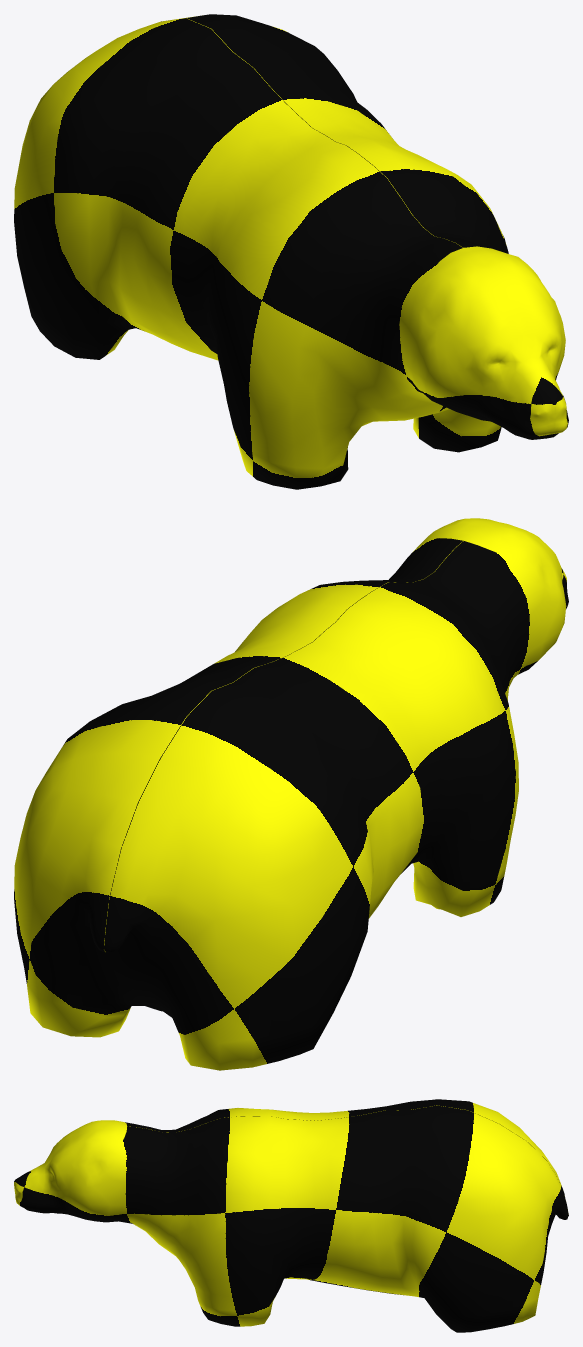
Rendered from bear_hitbox.obj.
The picture shows the model from 3 angles, top to bottom: view 1: azimuth 30°, elevation 25°; view 2: azimuth 150°, elevation 25°; view 3: azimuth 270°, elevation 25°; orthographic projection. The views are drawn at different scales.
Visible parts, largest first — view 1: bear_mesh1; view 2: bear_mesh1; view 3: bear_mesh1.
Boxes of the visible parts, box(x1,y1,x2,y2) form: bear_mesh1: box(14, 14, 568, 489); bear_mesh1: box(14, 518, 568, 1070); bear_mesh1: box(14, 1099, 568, 1332).
Size of the model in its own units: 18.95 by 18.4 by 47.82.
Materials: 1 (1 with a texture image).
